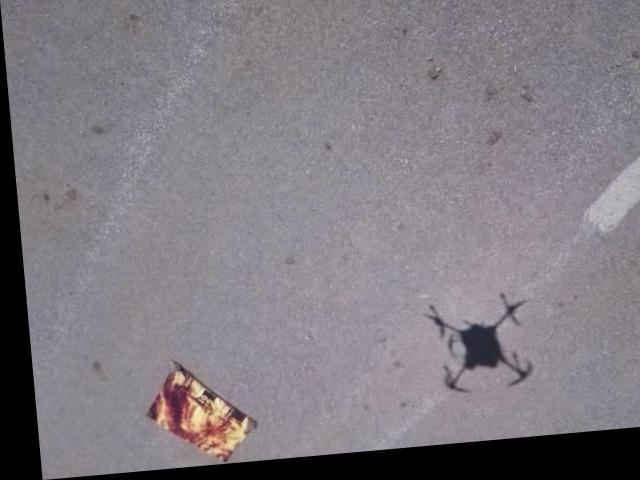fire-poster: (133, 355, 254, 473)
